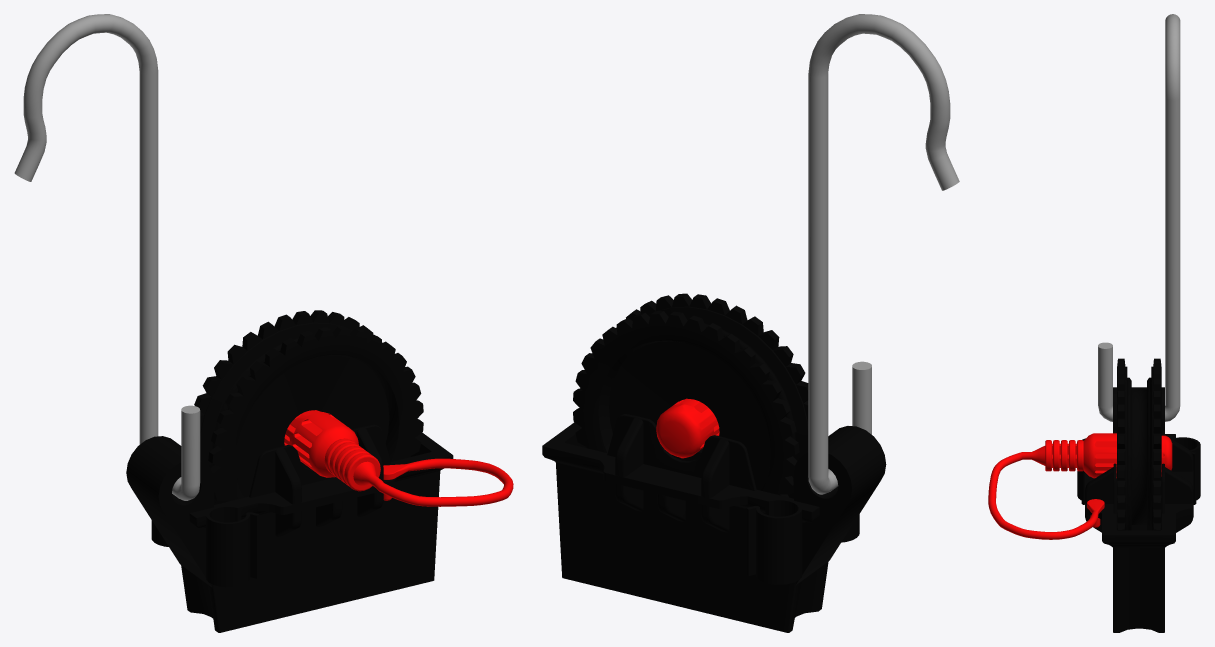
The model's file is SRCC.glb.
3 views of the same model, side by side, from view 1: azimuth 30°, elevation 25°; view 2: azimuth 150°, elevation 25°; view 3: azimuth 270°, elevation 25° (orthographic). The views are drawn at different scales.
Parts seen in each view (by area): view 1: Base, Polia, Gancho, Cabo; view 2: Base, Polia, Gancho, Cabo; view 3: Base, Gancho, Polia, Cabo.
Part boxes in pixels (x1,y1,x2,y2): Base: [126, 424, 453, 632]; Polia: [194, 310, 423, 504]; Gancho: [14, 14, 200, 500]; Cabo: [284, 410, 513, 506]; Base: [542, 414, 886, 632]; Polia: [573, 293, 808, 498]; Gancho: [808, 14, 959, 494]; Cabo: [656, 398, 719, 458]; Base: [1077, 387, 1200, 632]; Gancho: [1098, 14, 1180, 421]; Polia: [1117, 358, 1161, 530]; Cabo: [988, 433, 1172, 539].
Size of the model in its own units: 0.1992 by 0.2851 by 0.1113.
